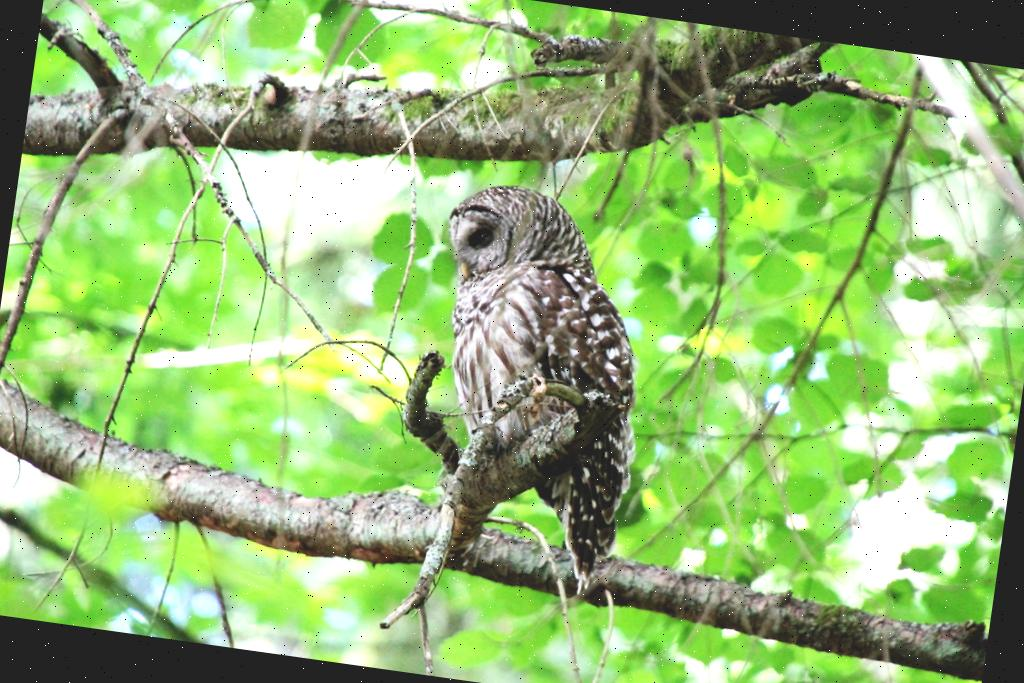Owl: (378, 169, 676, 620)
